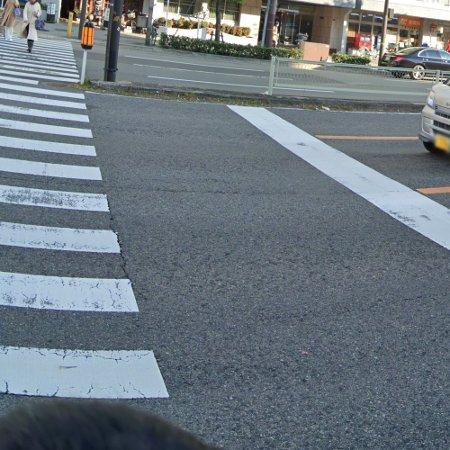crosswalks: (0, 38, 173, 398)
